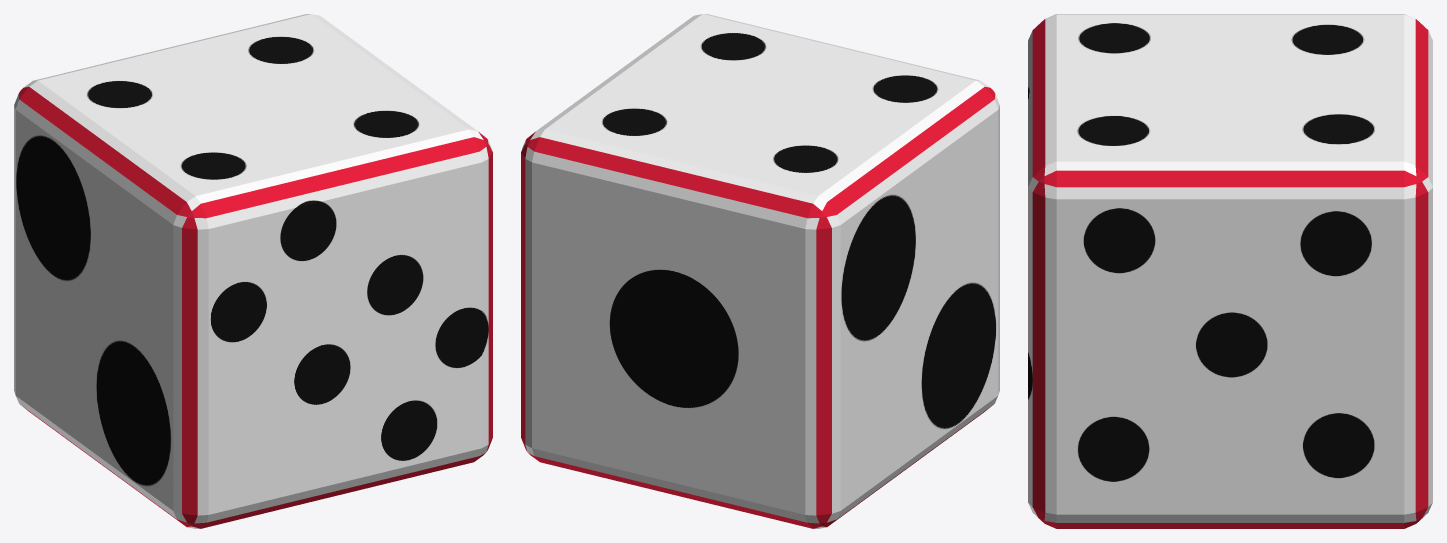
The model's file is zarik.fbx.
3 views of the same model, side by side, from view 1: azimuth 30°, elevation 25°; view 2: azimuth 150°, elevation 25°; view 3: azimuth 270°, elevation 25° (orthographic). The views are drawn at different scales.
Visible parts, largest first — view 1: Cube; view 2: Cube; view 3: Cube.
Boxes of the visible parts, <box> form: Cube: <box>14,14,492,528</box>; Cube: <box>521,14,999,528</box>; Cube: <box>1028,14,1432,528</box>.
Size of the model in its own units: 200 by 200 by 200.
